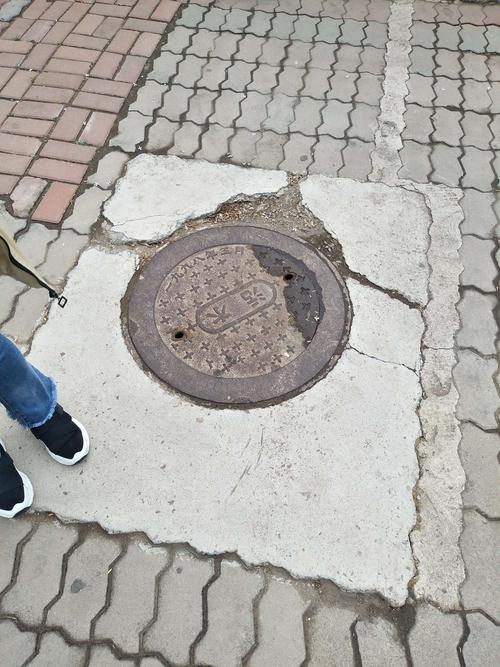circle: (76, 179, 411, 440)
